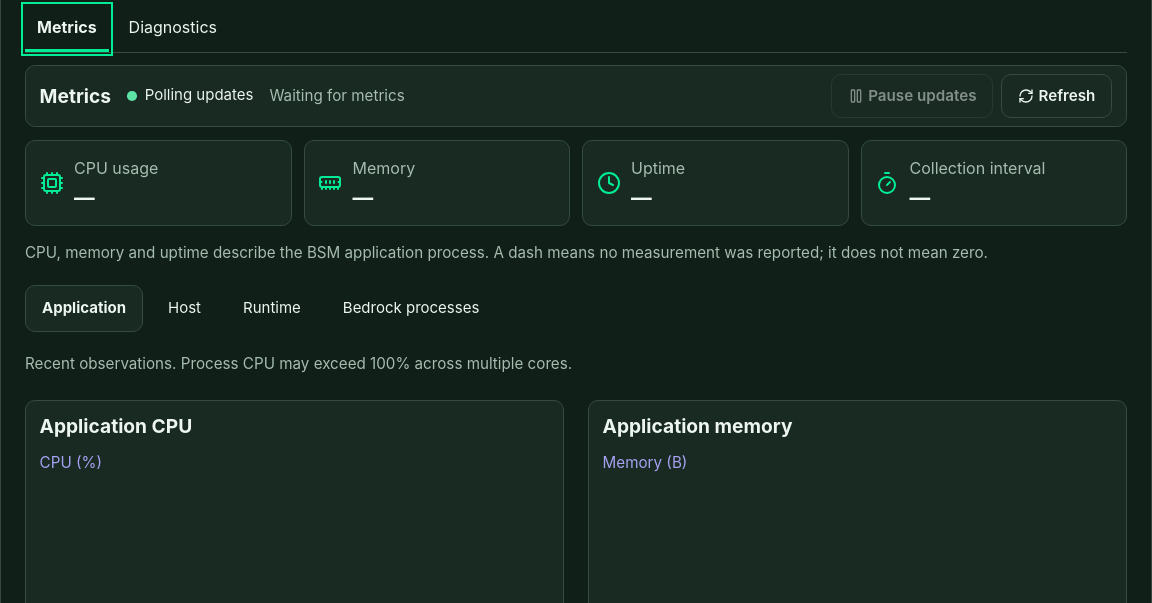
Test: mounts diagnostics only for admins and supports keyboard tab navigation
Press ArrowRight in the tab "Metrics", box [25,6,109,52]
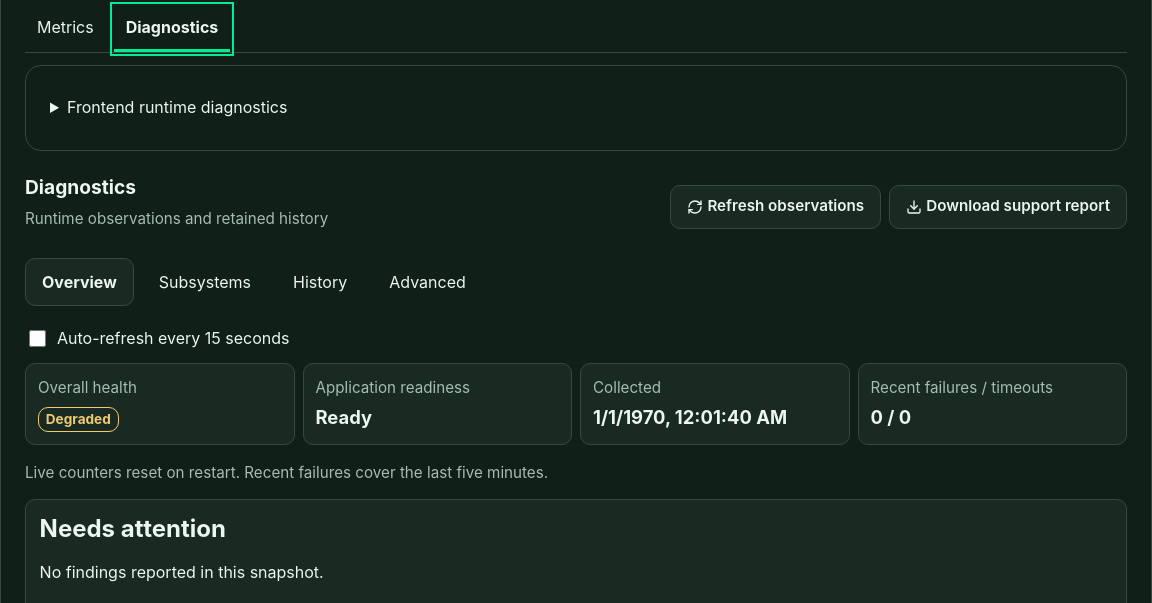
Now the text "Ready" is shown, box [316,406,372,428]
Click the button "Subsystems": click(205, 282) [142,258,268,306]
(page scrolled)
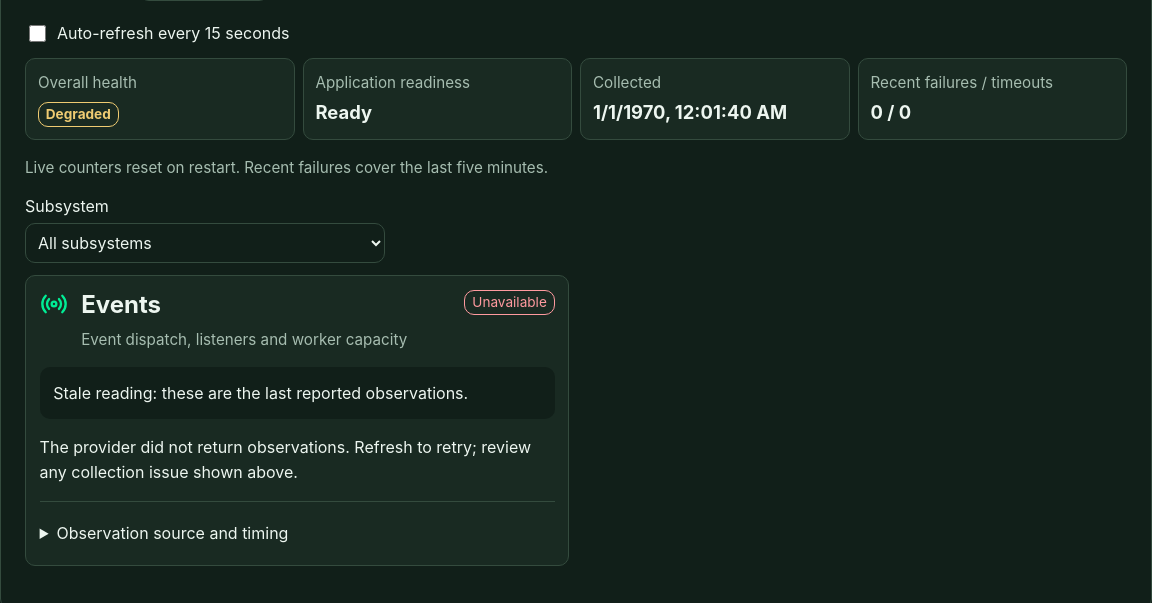
Now the element named "Events diagnostics" shows "Stale reading", box [53,383,468,403]
